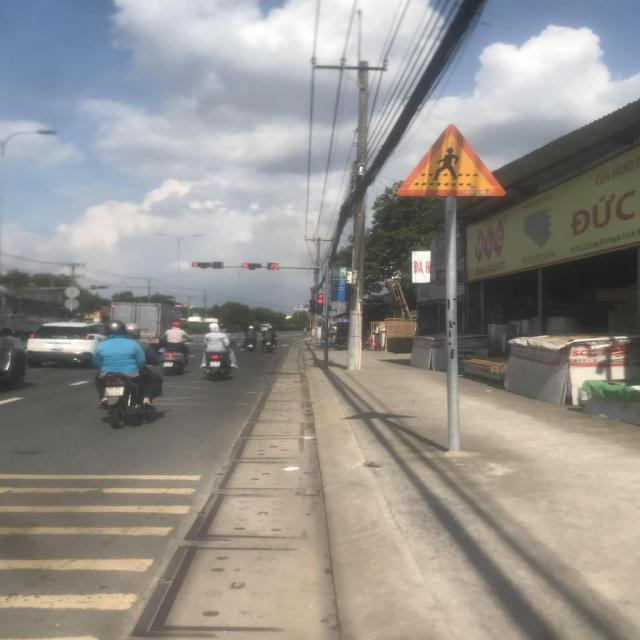224-duong-nguoi-di-bo-cat-ngang: (396, 124, 509, 199)
